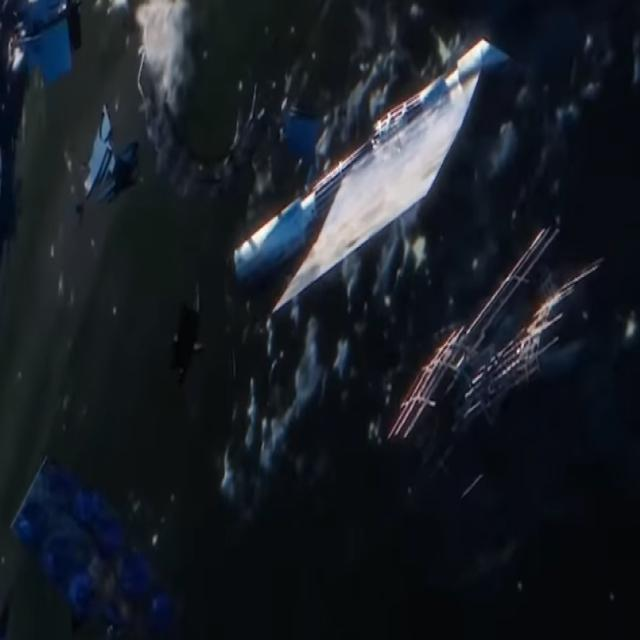large_debris: (216, 25, 516, 327), (380, 213, 616, 461), (8, 439, 176, 640), (62, 97, 155, 227), (0, 0, 87, 101)
